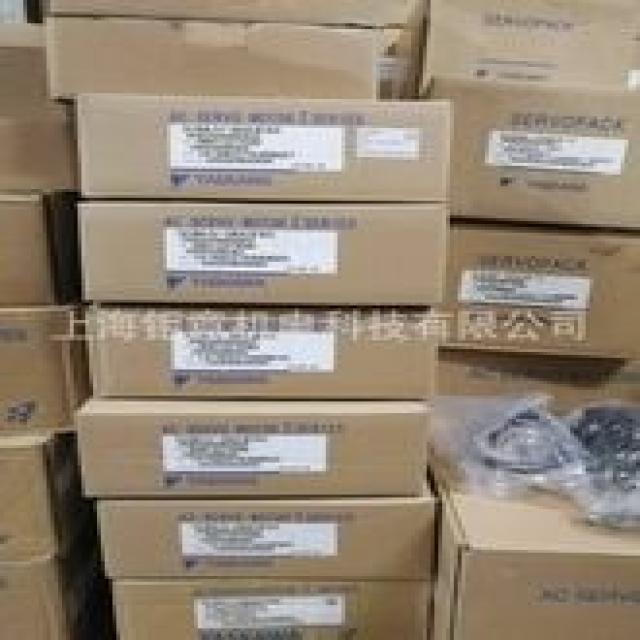box: (74, 92, 453, 202), (78, 201, 445, 308), (70, 391, 431, 495), (428, 456, 636, 634), (84, 304, 438, 400), (418, 75, 636, 230), (98, 493, 441, 580), (42, 17, 380, 100), (444, 217, 636, 355), (380, 0, 636, 96), (109, 578, 431, 637), (0, 22, 83, 194), (431, 350, 636, 418), (0, 499, 101, 637), (0, 294, 93, 431), (0, 430, 83, 560), (44, 0, 414, 29), (0, 184, 83, 305)
